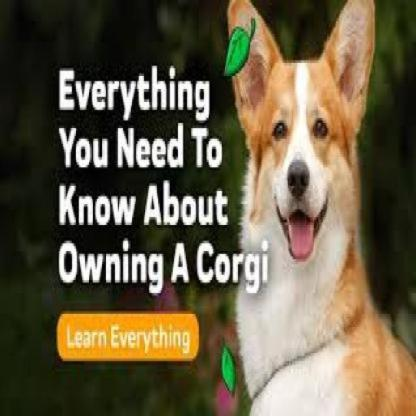dog: (224, 0, 416, 415)
